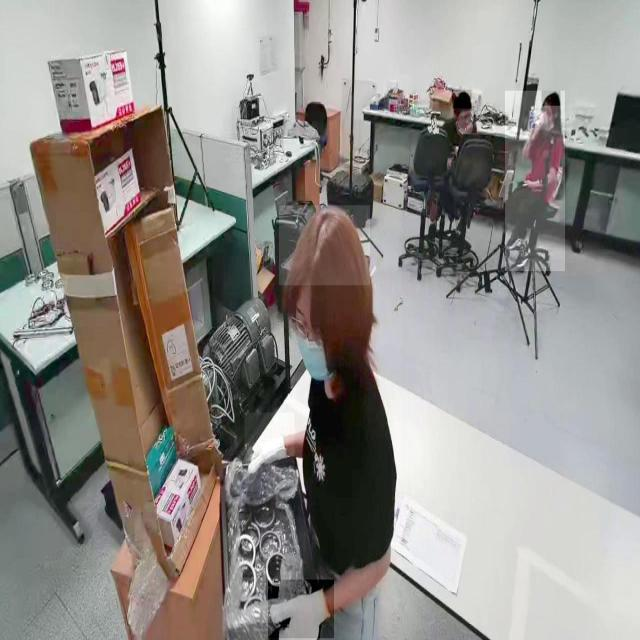face_mask: (294, 324, 340, 396)
hand_glove: (245, 412, 295, 492), (268, 580, 334, 639)
hand_noglove: (535, 110, 548, 131), (520, 178, 532, 190)
head_nohelmet: (279, 206, 371, 286), (452, 90, 472, 109), (541, 90, 561, 106)
person: (243, 205, 402, 639), (505, 91, 565, 272)
